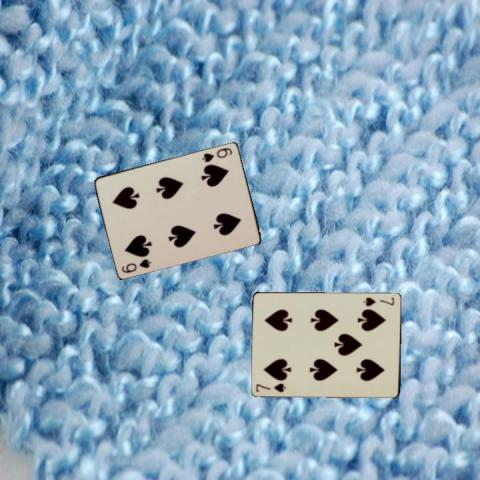6s: (118, 255, 152, 274), (200, 145, 234, 163)
7s: (253, 380, 288, 393), (361, 294, 395, 307)
